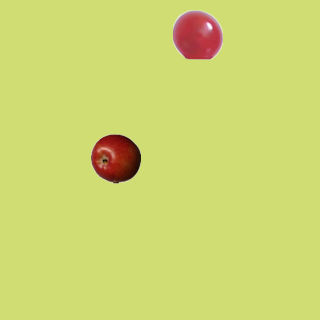Apple Braeburn: (90, 133, 140, 183)
Redcurrant: (172, 9, 222, 59)
